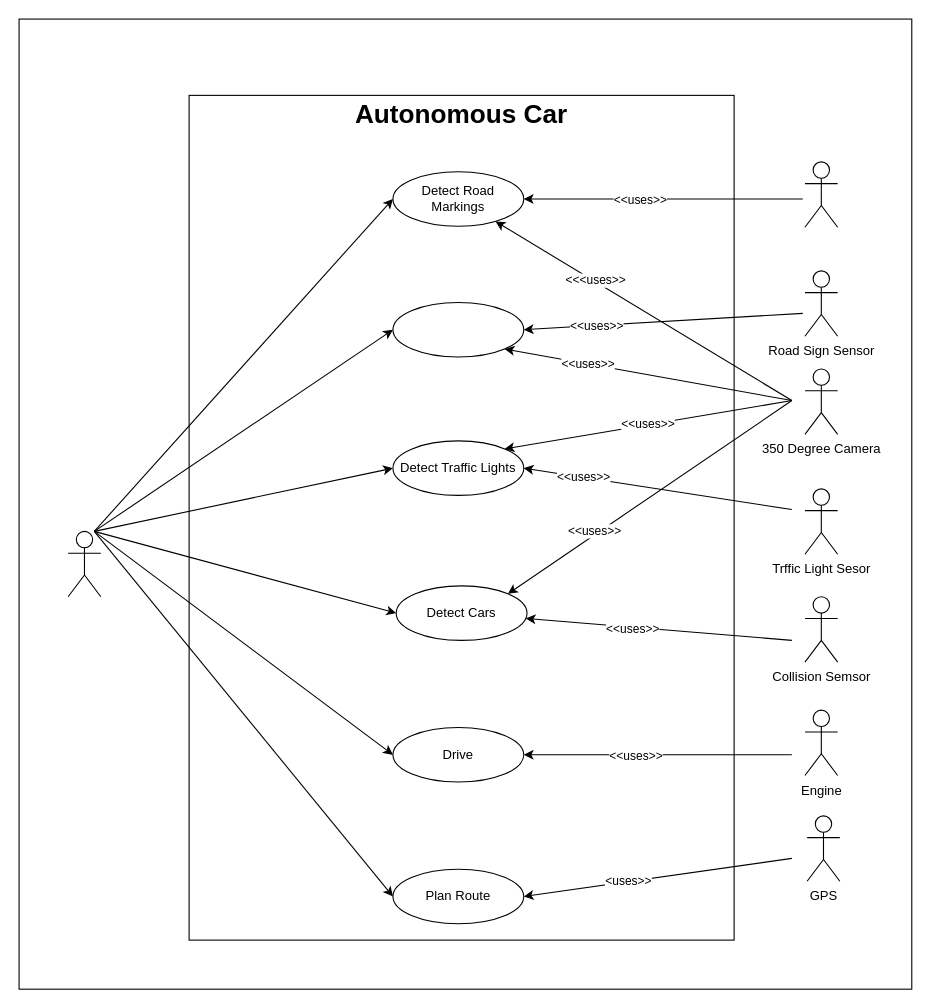
Image size: 931x1008. Some labels were removed from this diagram. Each missing label, with the centre of its shape:
"Detect Road Signs" belongs at [458,329].
"Driver" belongs at [84,563].
"Lane Sensor" belongs at [821,194].
